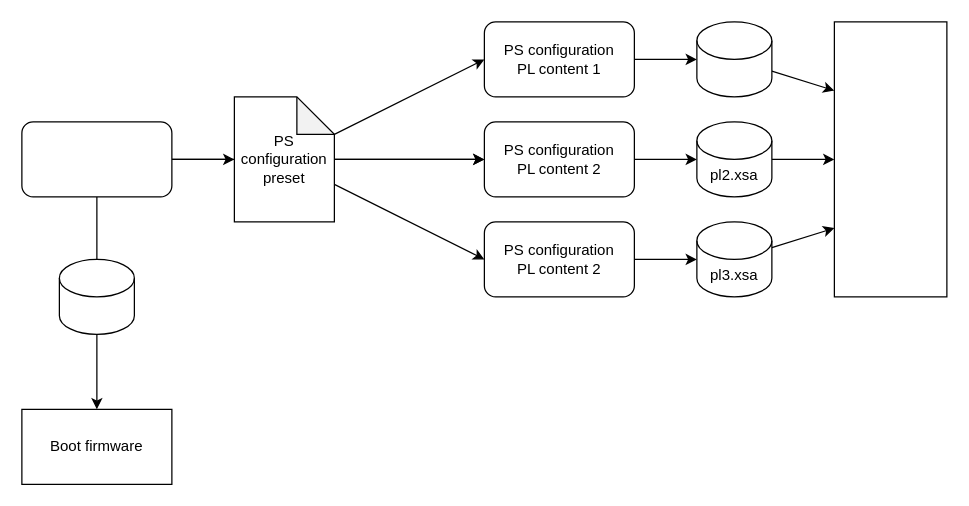
Some shapes in this 969 by 506 pixel diagram are drawn without their labels. Here are the shapes that lost their labels. From the top down, the centre of each, then its label:
At [734,59]: "pl1.xsa".
At [96,159]: "PS configuration Empty PL".
At [890,159]: "FPGA Manager".
At [96,296]: "base.xsa".
